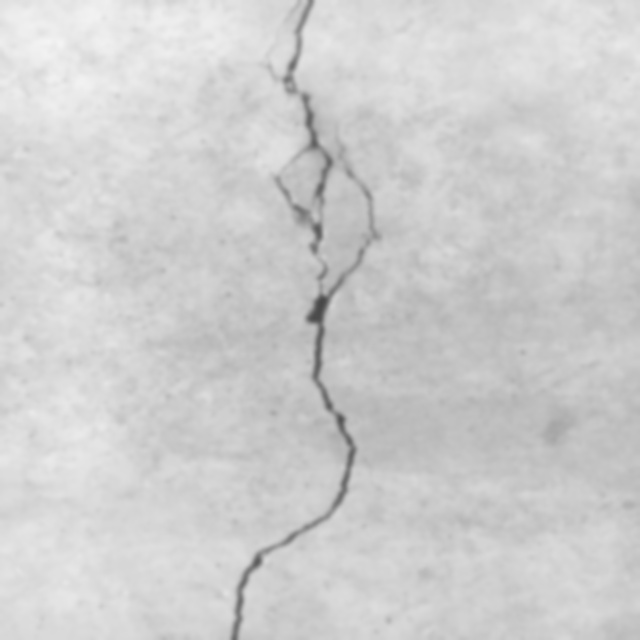SurfaceCrack: (211, 0, 403, 639)
